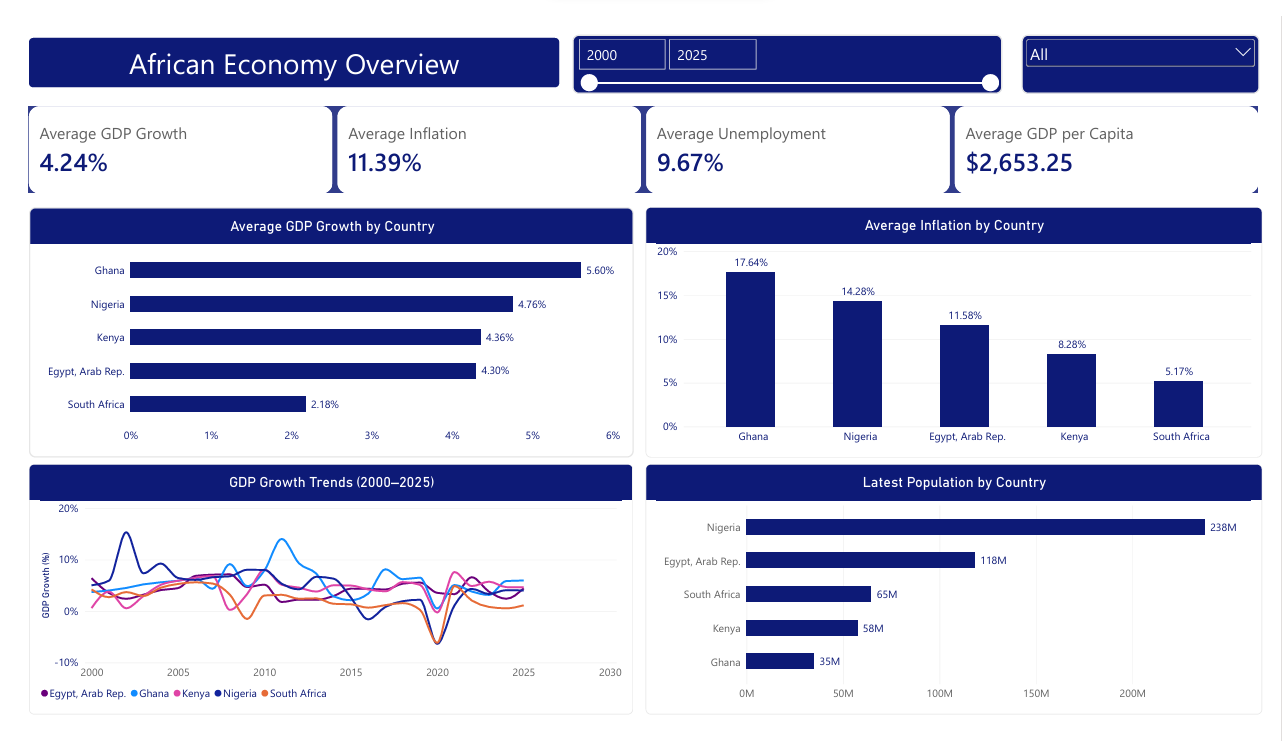

The page's visual inventory and layout, read from the dashboard file:
{"tool":"powerbi","page":{"name":"African Economy Overview","canvas":[1920,1080],"ordinal":0},"visuals":[{"type":"cardVisual","fields":{"Data":["african_economic_indicators.Average GDP Growth","african_economic_indicators.Average Inflation","african_economic_indicators.Average Unemployment","african_economic_indicators.Average GDP per Capita"]},"box":[21.1,126.8,1867.2,132],"z":0},{"type":"slicer","fields":{"Values":["african_economic_indicators.country"]},"box":[1526.5,18.5,361,89.8],"z":1000},{"type":"slicer","fields":{"Values":["african_economic_indicators.year"]},"box":[845.1,18.5,652.3,89.8],"z":2000},{"type":"clusteredBarChart","title":"Average GDP Growth by Country","fields":{"Category":["african_economic_indicators.country"],"Y":["african_economic_indicators.Average GDP Growth"]},"box":[21.1,279.9,916.4,380.3],"z":3000},{"type":"clusteredColumnChart","title":"Average Inflation by Country","fields":{"Category":["african_economic_indicators.country"],"Y":["african_economic_indicators.Average Inflation"]},"box":[956,279.9,935,380],"z":4000},{"type":"lineChart","title":"GDP Growth Trends (2000–2025)","fields":{"Category":["african_economic_indicators.year"],"Series":["african_economic_indicators.country"],"Y":["african_economic_indicators.Average GDP Growth"]},"box":[21,670,916,380],"z":5000},{"type":"clusteredBarChart","title":"Latest Population by Country","fields":{"Category":["african_economic_indicators.country"],"Y":["african_economic_indicators.Latest Population"]},"box":[956,670,935,380],"z":6000},{"type":"shape","box":[17.3,19.4,812.2,82.1],"z":7000}]}

Visuals, with their boxes on the page's 1920x1080 design canvas (x1, y1, x2, y2). These are canvas units, not pixel positions in the 1282x747 screenshot, which may show the page scaled, cropped or inside an application window:
cardVisual - african_economic_indicators.Average GDP Growth x african_economic_indicators.Average Inflation: 21,127,1888,259
slicer - african_economic_indicators.country: 1526,18,1888,108
slicer - african_economic_indicators.year: 845,18,1497,108
"Average GDP Growth by Country" clusteredBarChart: 21,280,938,660
"Average Inflation by Country" clusteredColumnChart: 956,280,1891,660
"GDP Growth Trends (2000–2025)" lineChart: 21,670,937,1050
"Latest Population by Country" clusteredBarChart: 956,670,1891,1050
shape: 17,19,830,102
